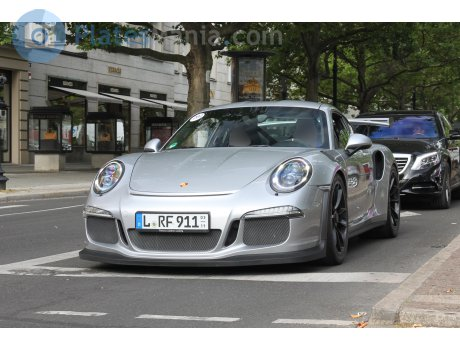License Plates: (143, 212, 204, 228)
